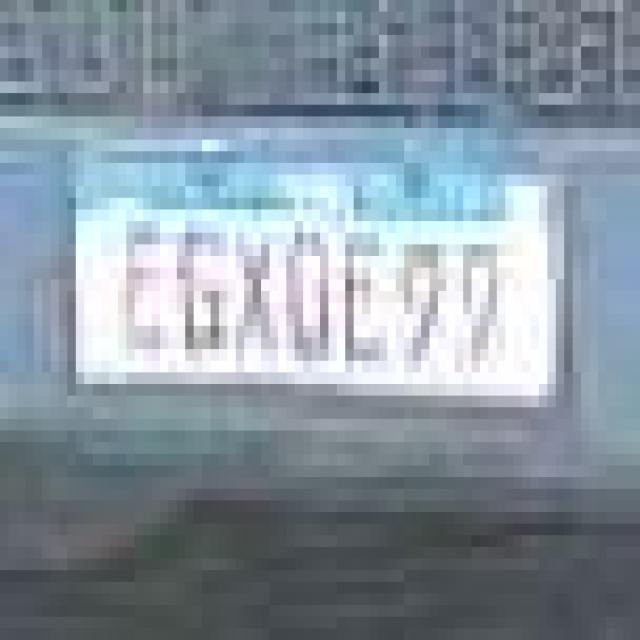0: (286, 219, 334, 363)
9: (397, 237, 449, 374), (457, 238, 505, 368)
E: (118, 211, 167, 350), (347, 228, 392, 370)
G: (178, 222, 230, 354)
X: (233, 223, 274, 363)
